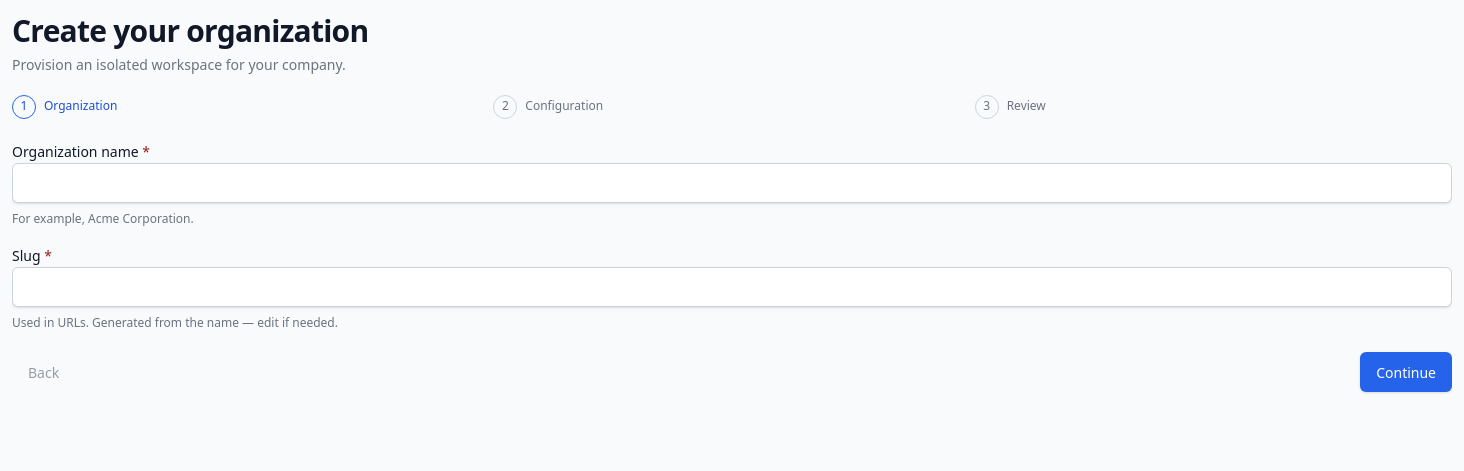
it: OrganizationCreateWizard › requires a valid org name before leaving step 1
Click the button "Continue".
click(1406, 372)  # box 1360,352 -> 1452,392
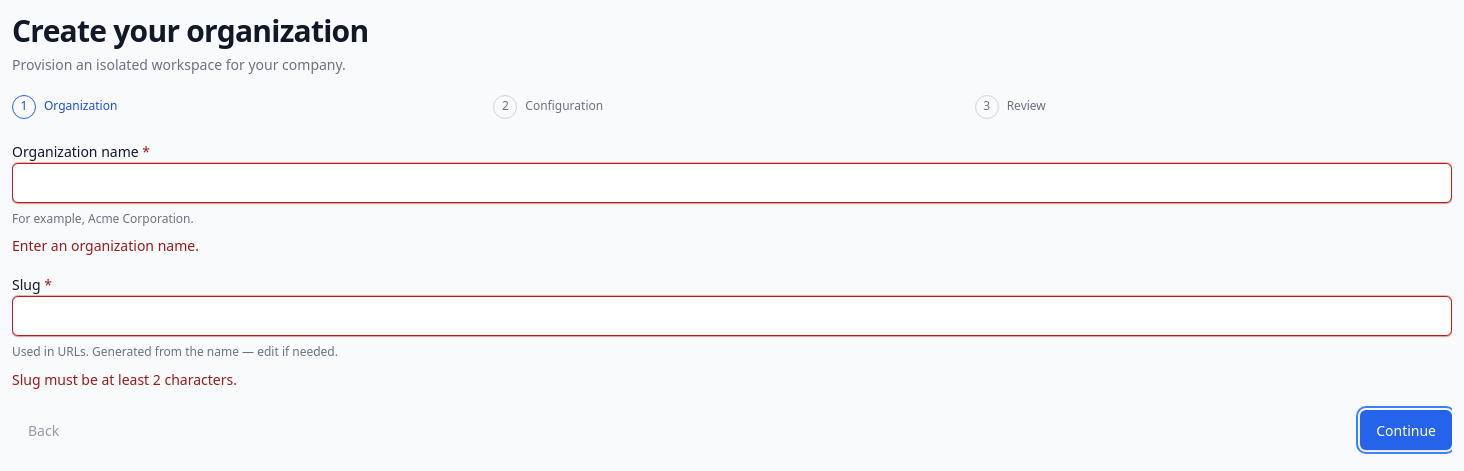
Check: the text "Enter an organization name." is shown, box 12,236 -> 199,255
